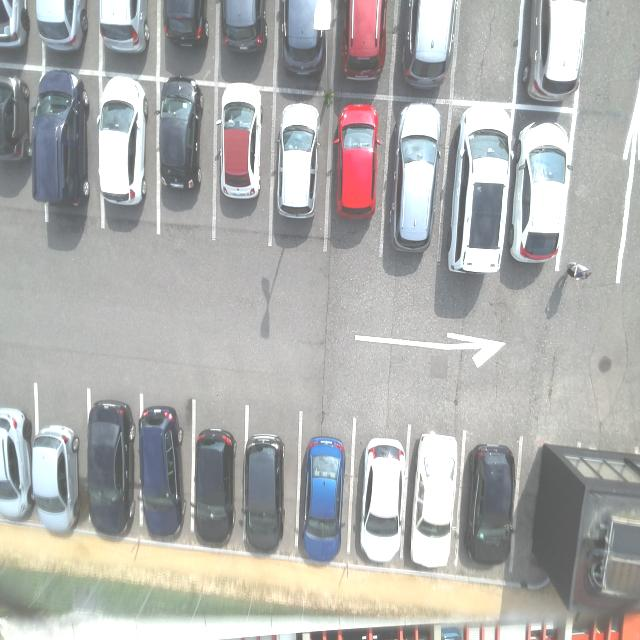car: (449, 106, 514, 279), (510, 119, 573, 280), (387, 102, 445, 261), (31, 71, 91, 213), (85, 399, 138, 537), (410, 433, 460, 571), (137, 404, 186, 541), (357, 438, 409, 567), (214, 80, 266, 208), (332, 101, 384, 227), (98, 77, 149, 204), (466, 444, 516, 569), (272, 104, 323, 224), (301, 438, 348, 567), (157, 75, 205, 198), (192, 425, 239, 549), (244, 430, 289, 554), (36, 418, 83, 534), (1, 403, 31, 525)
